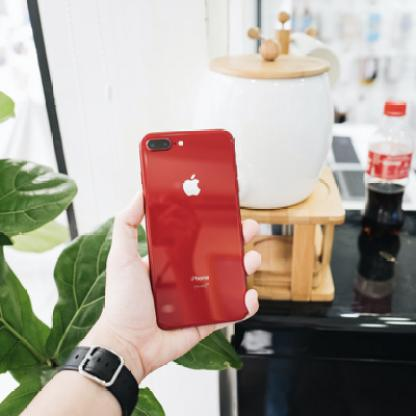cell-phone: (134, 129, 261, 322)
